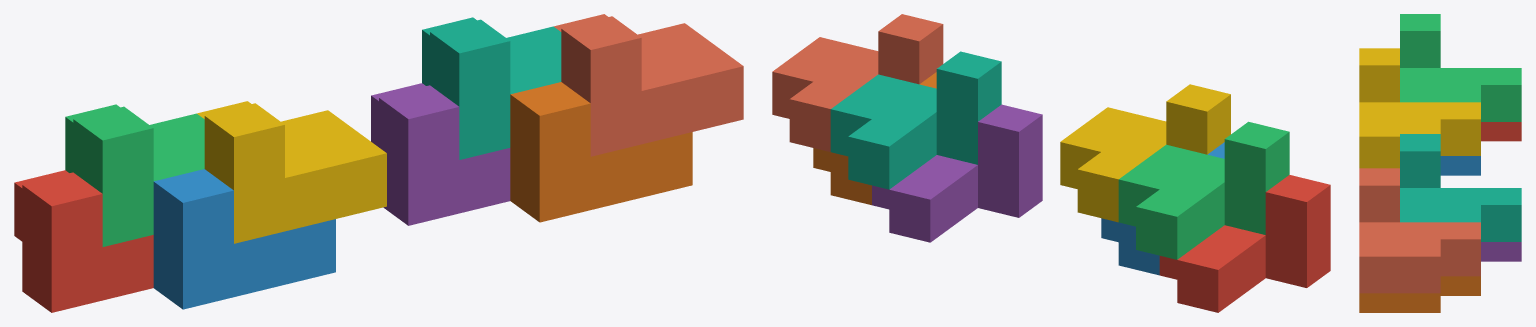
The model's file is tiling.obj.
3 renders of one model, left to right at view 1: azimuth 30°, elevation 25°; view 2: azimuth 150°, elevation 25°; view 3: azimuth 270°, elevation 25°, orthographic. The views are drawn at different scales.
Visible parts, largest first — view 1: copy_1_domain_8, copy_1_domain_4, copy_1_domain_2, copy_1_domain_6, copy_1_domain_1, copy_1_domain_5, copy_1_domain_3, copy_1_domain_7; view 2: copy_1_domain_7, copy_1_domain_3, copy_1_domain_1, copy_1_domain_5, copy_1_domain_8, copy_1_domain_4, copy_1_domain_6, copy_1_domain_2; view 3: copy_1_domain_8, copy_1_domain_4, copy_1_domain_3, copy_1_domain_7, copy_1_domain_6, copy_1_domain_1, copy_1_domain_2, copy_1_domain_5.
Boxes of the visible parts, x1,y1,x2,y2 form: copy_1_domain_8: [554, 14, 743, 156]; copy_1_domain_4: [197, 101, 386, 243]; copy_1_domain_2: [153, 169, 335, 309]; copy_1_domain_6: [510, 82, 692, 222]; copy_1_domain_1: [14, 170, 153, 312]; copy_1_domain_5: [371, 83, 510, 225]; copy_1_domain_3: [65, 104, 204, 246]; copy_1_domain_7: [422, 17, 561, 159]; copy_1_domain_7: [830, 51, 1001, 189]; copy_1_domain_3: [1118, 121, 1289, 259]; copy_1_domain_1: [1159, 175, 1330, 312]; copy_1_domain_5: [872, 104, 1042, 242]; copy_1_domain_8: [772, 14, 943, 151]; copy_1_domain_4: [1060, 84, 1230, 222]; copy_1_domain_6: [813, 72, 936, 205]; copy_1_domain_2: [1101, 142, 1224, 275]; copy_1_domain_8: [1359, 168, 1480, 293]; copy_1_domain_4: [1359, 48, 1480, 168]; copy_1_domain_3: [1400, 14, 1521, 121]; copy_1_domain_7: [1400, 134, 1521, 241]; copy_1_domain_6: [1359, 276, 1480, 312]; copy_1_domain_1: [1481, 122, 1521, 141]; copy_1_domain_2: [1440, 156, 1480, 175]; copy_1_domain_5: [1481, 242, 1521, 261].
Size of the model in its own units: 13 by 3 by 4.
